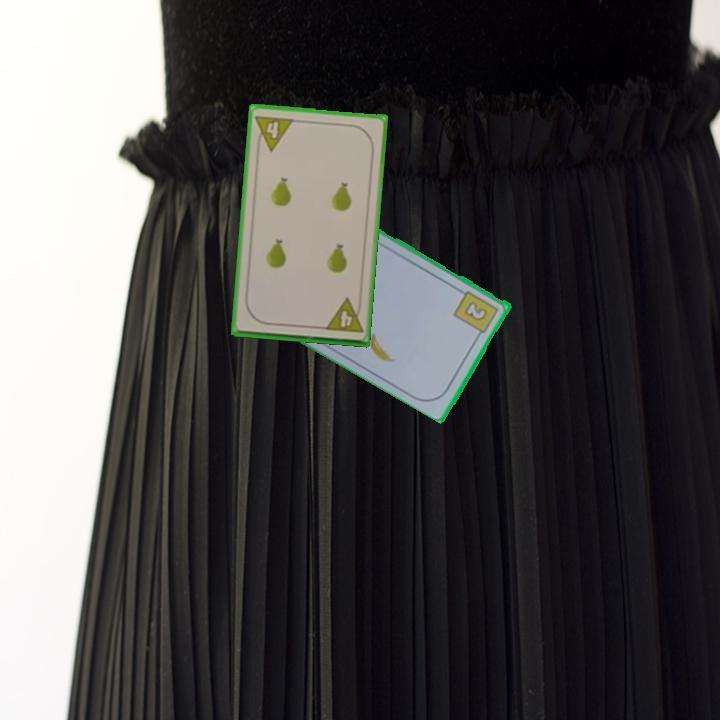2b: (450, 287, 502, 341)
4p: (252, 111, 296, 154), (321, 295, 366, 336)
